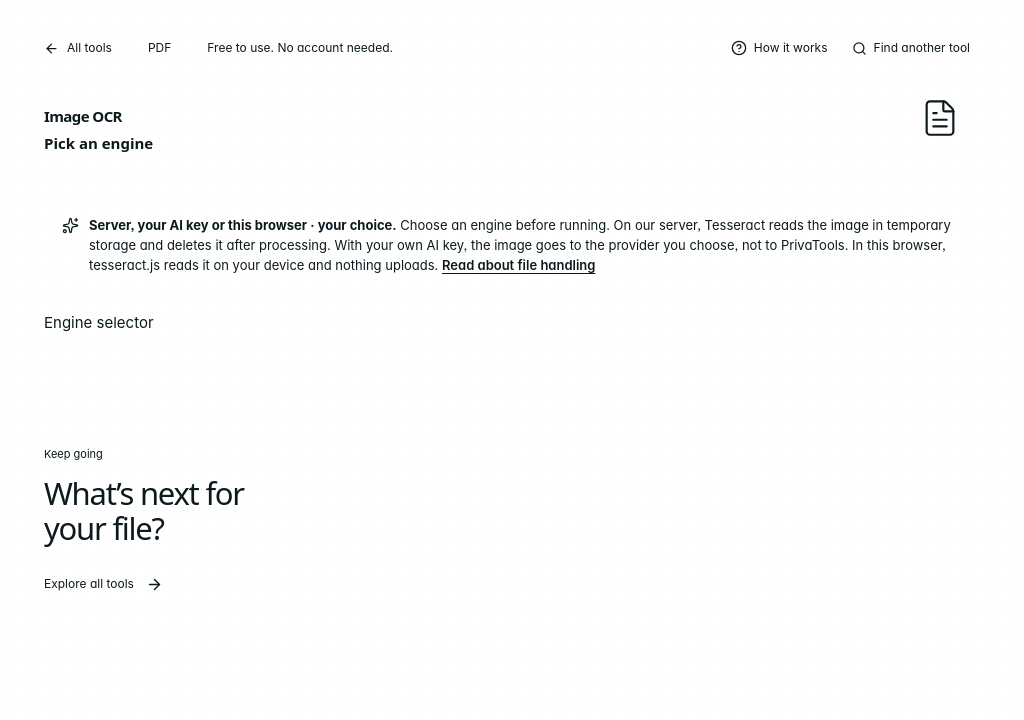
it: where the file goes › gives Image OCR the choice its engine picker offers, not just the server's
Expected: the text "Server, your AI key or this browser · your choice." is shown, [89,217,397,233]
Click the button "How it works" at coordinates (779, 48), box [721,30,838,66]
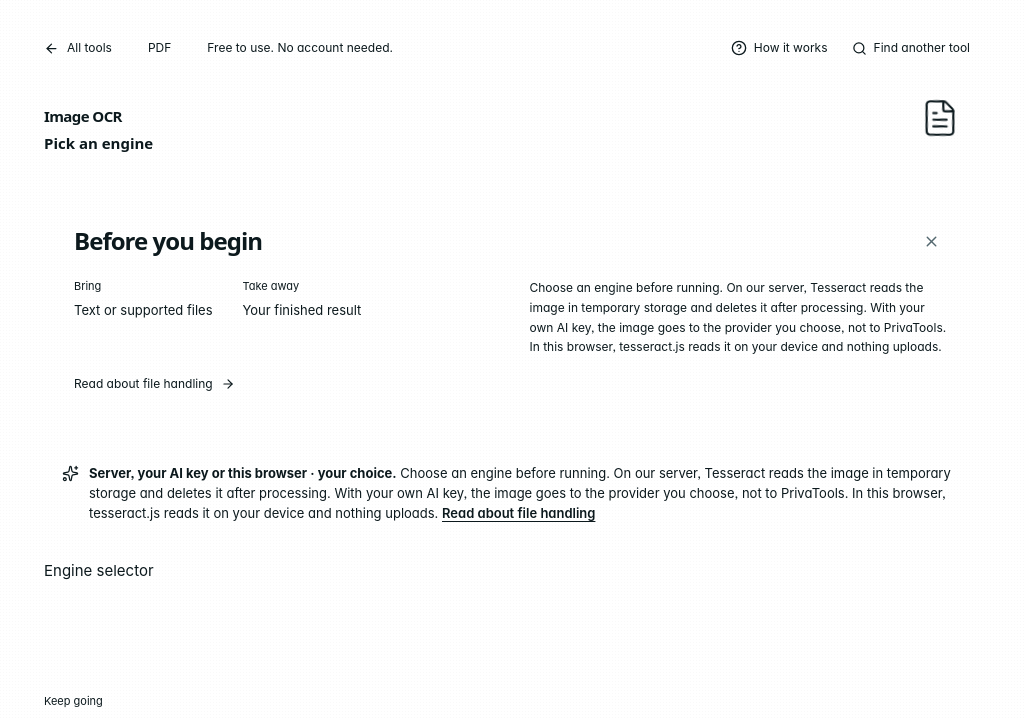
Expected: the text "In this browser, tesseract.js reads it on your device and nothing uploads." is shown, [530,280,946,354]
